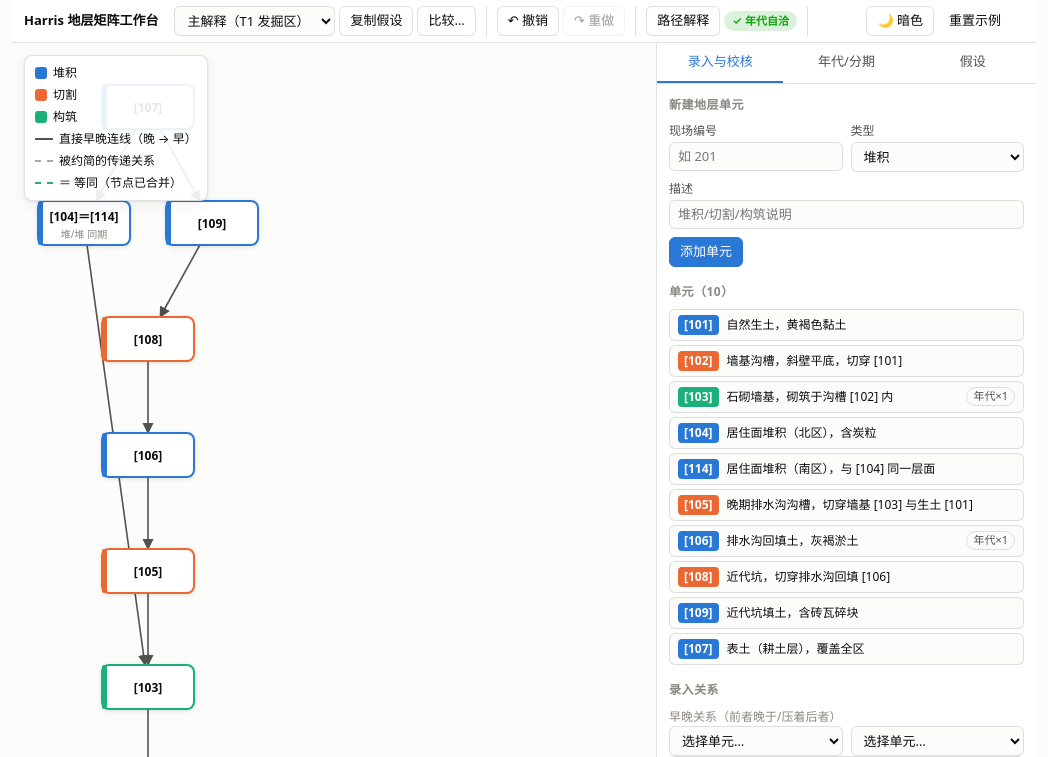
App 冒烟挂载 › 切到年代页可见传播结果且示例自洽
Click the button "年代/分期".
click(846, 63)  # box [783,43,910,82]
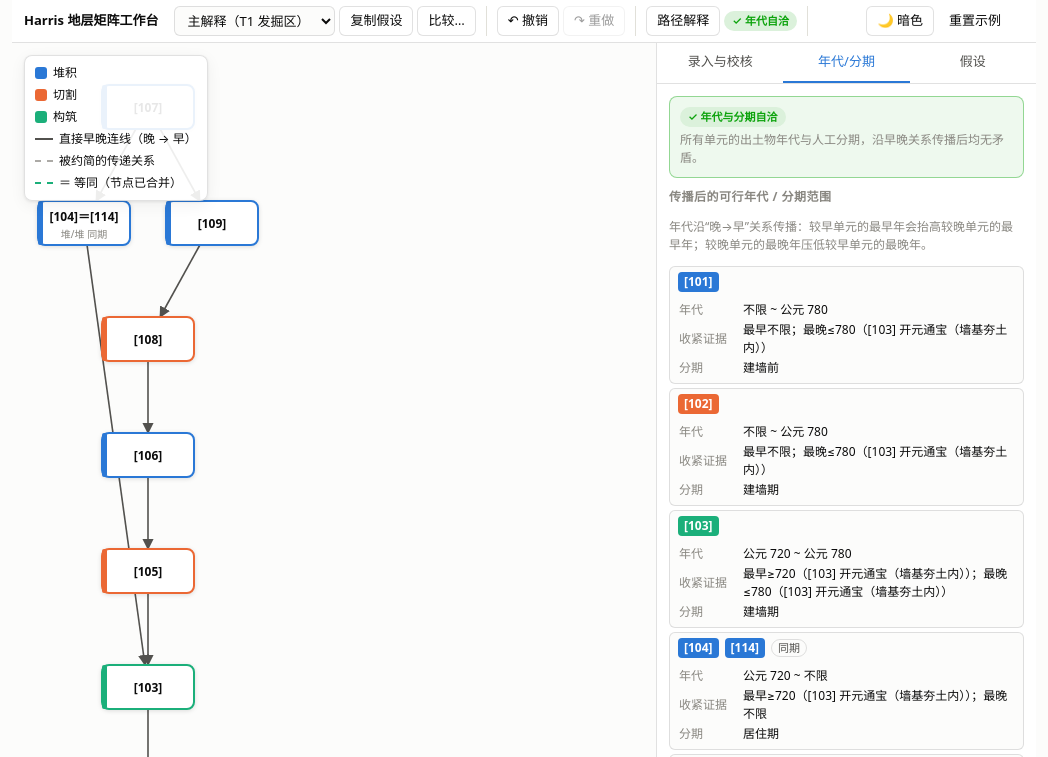
Check: the text "传播后的可行年代" is shown, box [669,188,831,205]
Check: the text "年代与分期自洽" is shown, box [688,108,778,124]
Check: the text "780" is shown, box [780,301,828,318]
